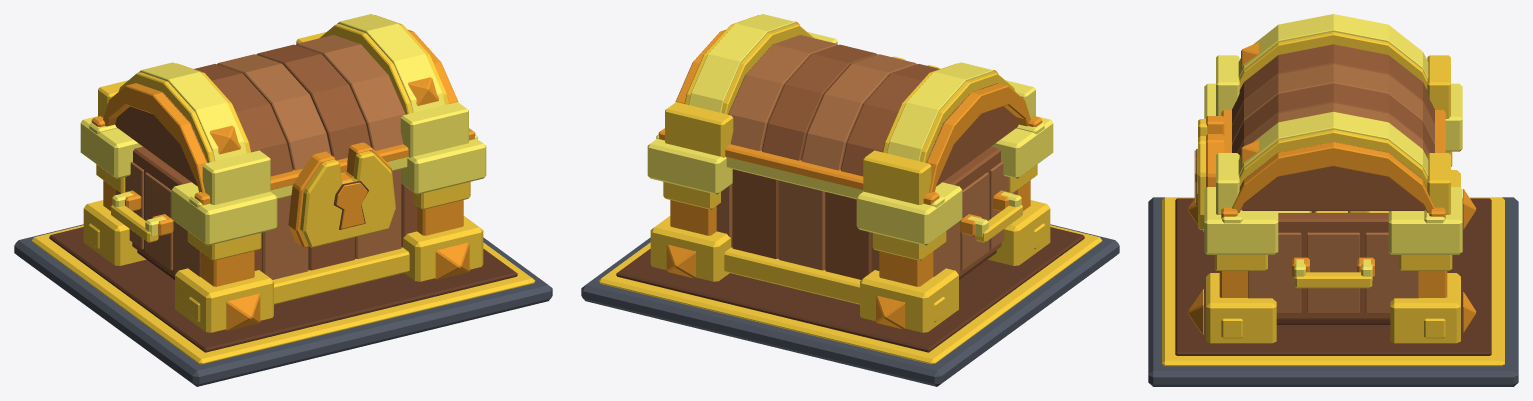
The model's file is GoldenActivityChest.fbx.
3 views of the same model, side by side, from view 1: azimuth 30°, elevation 25°; view 2: azimuth 150°, elevation 25°; view 3: azimuth 270°, elevation 25° (orthographic).
Visible parts, largest first — view 1: ChestBody, ChestLid; view 2: ChestBody, ChestLid; view 3: ChestBody, ChestLid.
Boxes of the visible parts, x1,y1,x2,y2 form: ChestBody: (14, 116, 552, 386); ChestLid: (91, 14, 475, 205); ChestBody: (581, 56, 1119, 386); ChestLid: (658, 14, 1042, 205); ChestBody: (1148, 83, 1518, 386); ChestLid: (1216, 14, 1450, 218).
Size of the model in its own units: 465 by 281 by 410.
